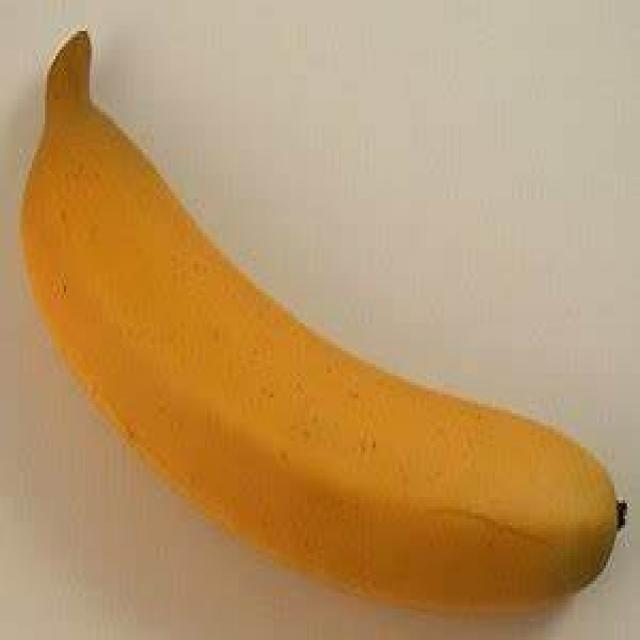Banana: (24, 30, 622, 606)
